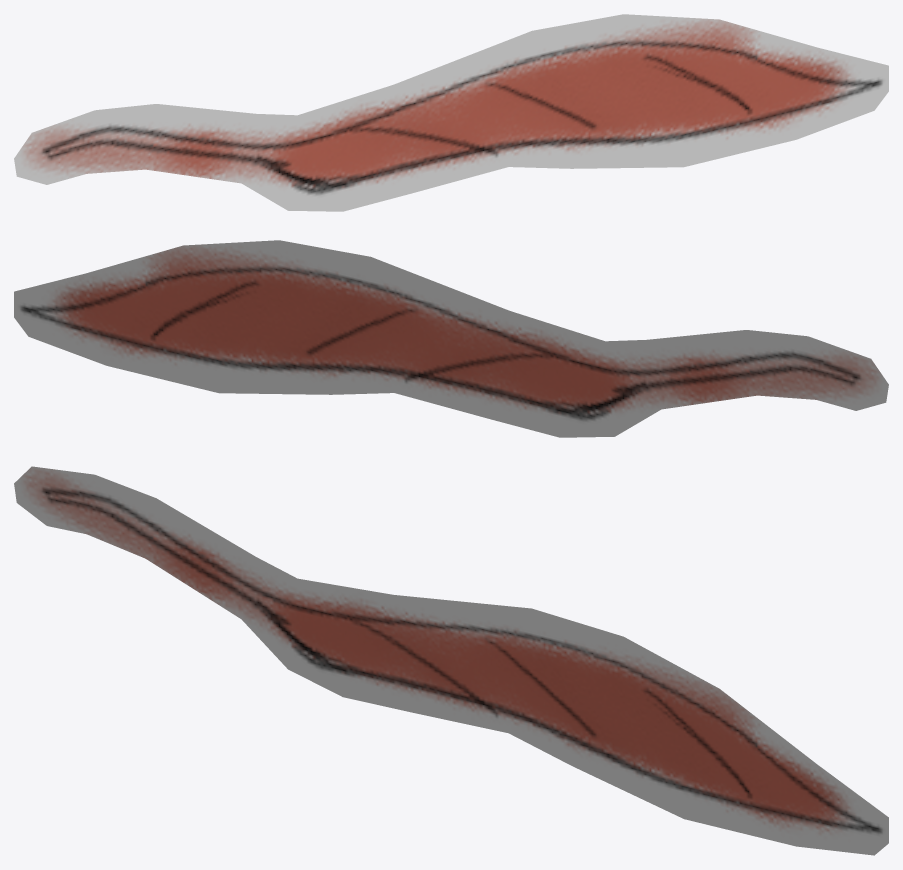
Rendered from Leaf1.fbx.
3 views of the same model, one above another, from view 1: azimuth 30°, elevation 25°; view 2: azimuth 150°, elevation 25°; view 3: azimuth 330°, elevation 25° (orthographic).
Parts seen in each view (by area): view 1: Leaf1; view 2: Leaf1; view 3: Leaf1.
Boxes of the visible parts, bbox=[...] form: Leaf1: bbox=[14, 14, 888, 211]; Leaf1: bbox=[14, 240, 888, 437]; Leaf1: bbox=[14, 466, 888, 855].
Size of the model in its own units: 37.84 by 8.3 by 1.35e-06.
